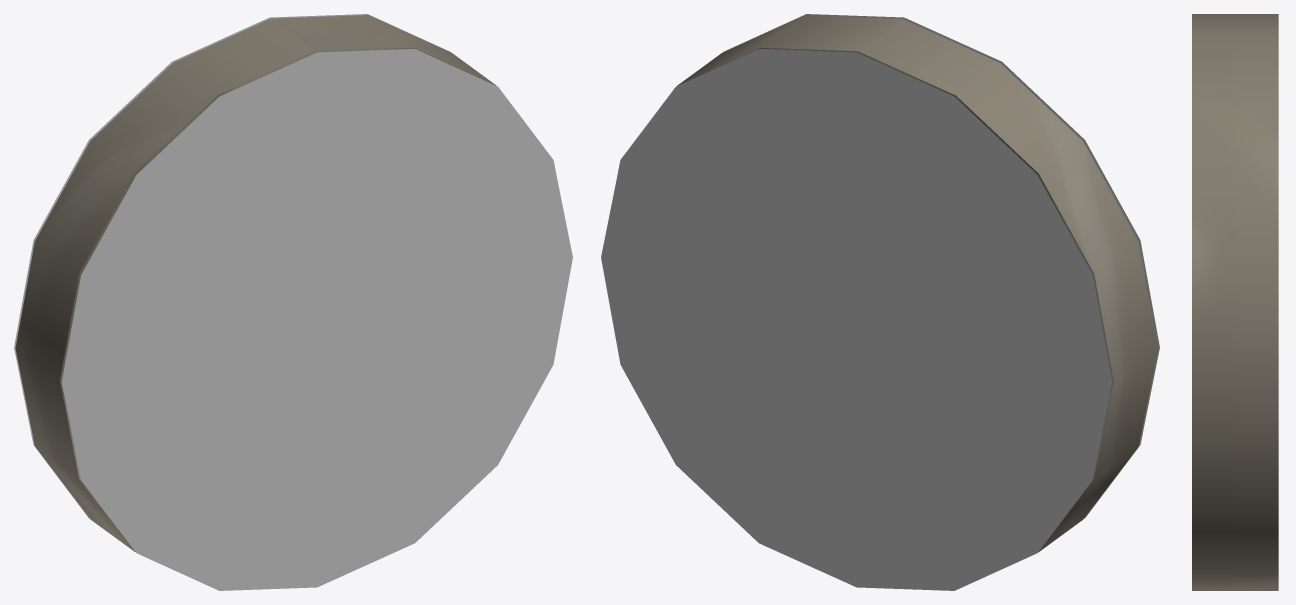
The model's file is I_001_Gold.FBX.
3 views of the same model, side by side, from view 1: azimuth 30°, elevation 25°; view 2: azimuth 150°, elevation 25°; view 3: azimuth 270°, elevation 25° (orthographic). The views are drawn at different scales.
Parts seen in each view (by area): view 1: shiny, coin; view 2: shiny, coin; view 3: coin.
Part boxes in pixels (x1,y1,x2,y2): shiny: (14, 14, 572, 590); coin: (15, 15, 496, 551); shiny: (601, 14, 1159, 590); coin: (677, 15, 1157, 552); coin: (1192, 14, 1278, 590).
Bounding box in the file's own units: 100 × 100 × 16.14.
